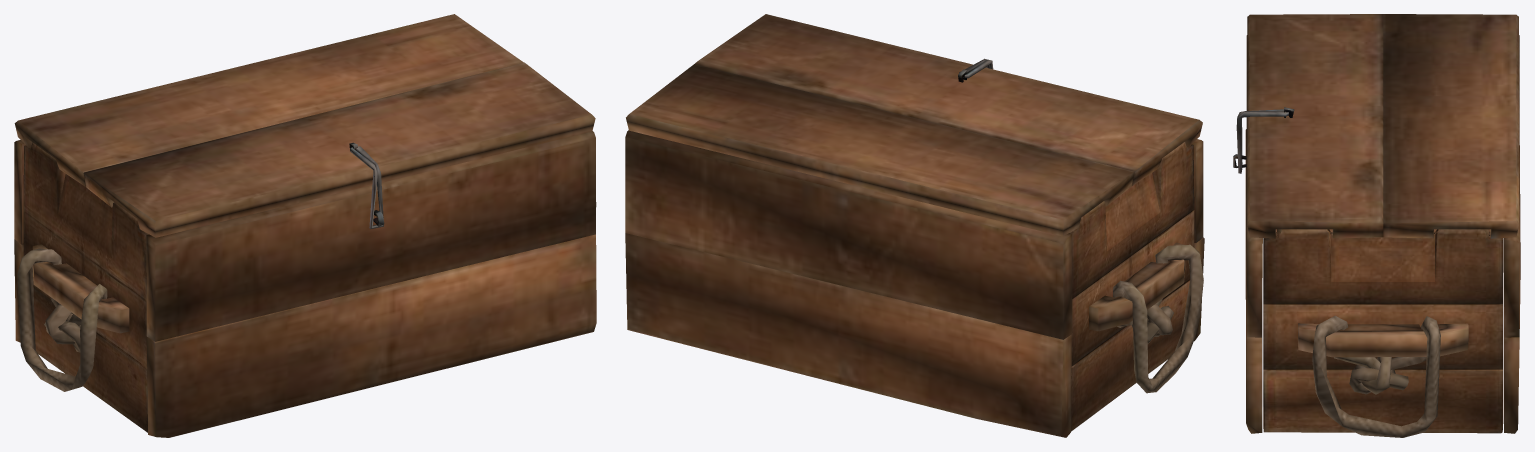
Rendered from wooden_crate_01.glb.
3 renders of one model, left to right at view 1: azimuth 30°, elevation 25°; view 2: azimuth 150°, elevation 25°; view 3: azimuth 270°, elevation 25°, orthographic. The views are drawn at different scales.
Parts seen in each view (by area): view 1: wooden_crate_01, wooden_crate_01_lid, wooden_crate_01_latch; view 2: wooden_crate_01, wooden_crate_01_lid; view 3: wooden_crate_01_lid, wooden_crate_01, wooden_crate_01_latch.
Part boxes in pixels (x1,y1,x2,y2): wooden_crate_01: (14,131,596,437); wooden_crate_01_lid: (14,14,595,237); wooden_crate_01_latch: (350,146,383,228); wooden_crate_01: (625,130,1204,437); wooden_crate_01_lid: (626,14,1202,236); wooden_crate_01_lid: (1247,14,1518,238); wooden_crate_01: (1233,35,1520,437); wooden_crate_01_latch: (1236,109,1288,173).
Size of the model in its own units: 0.8245 by 0.3469 by 0.4056.
1 material, 1 textured.
